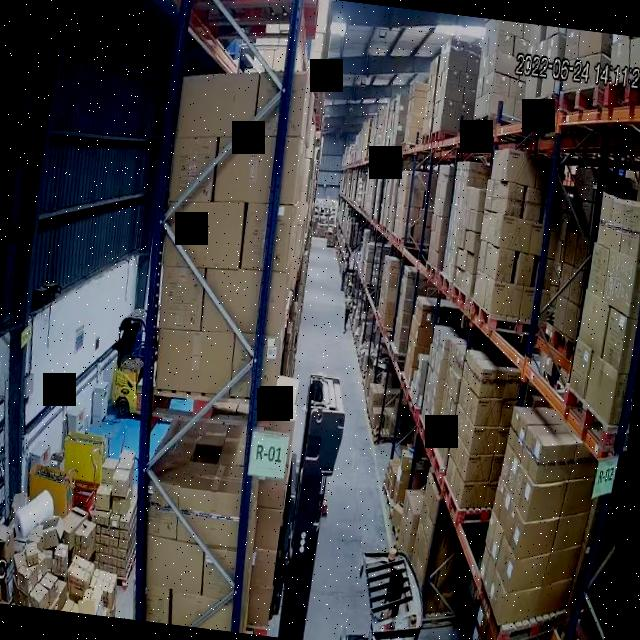box: (161, 194, 248, 268), (175, 65, 262, 138), (214, 135, 301, 204), (151, 328, 236, 397), (200, 271, 286, 333), (172, 490, 246, 549), (138, 534, 208, 596), (482, 558, 546, 620), (229, 324, 283, 396), (153, 265, 208, 332), (244, 207, 294, 272), (168, 138, 220, 200), (491, 536, 545, 585), (140, 482, 181, 536), (502, 505, 545, 555), (578, 290, 610, 351), (93, 512, 128, 563), (596, 192, 627, 249), (63, 550, 96, 597), (603, 309, 627, 371), (503, 147, 540, 187), (536, 446, 574, 481), (528, 485, 566, 520), (35, 512, 67, 552), (618, 198, 640, 255), (587, 244, 609, 299), (499, 217, 532, 252), (399, 486, 423, 532), (491, 283, 523, 317), (563, 232, 589, 269), (109, 465, 132, 501), (475, 398, 502, 427), (479, 368, 505, 398), (487, 90, 515, 117), (18, 538, 42, 569), (573, 167, 596, 199), (460, 481, 488, 507), (447, 38, 481, 59), (523, 188, 543, 222), (471, 428, 497, 454), (466, 457, 492, 482), (516, 252, 534, 288), (504, 184, 524, 216), (492, 50, 517, 74), (496, 249, 514, 282), (444, 81, 465, 101), (491, 73, 511, 93), (440, 117, 459, 132), (446, 70, 460, 84), (443, 100, 455, 115)
